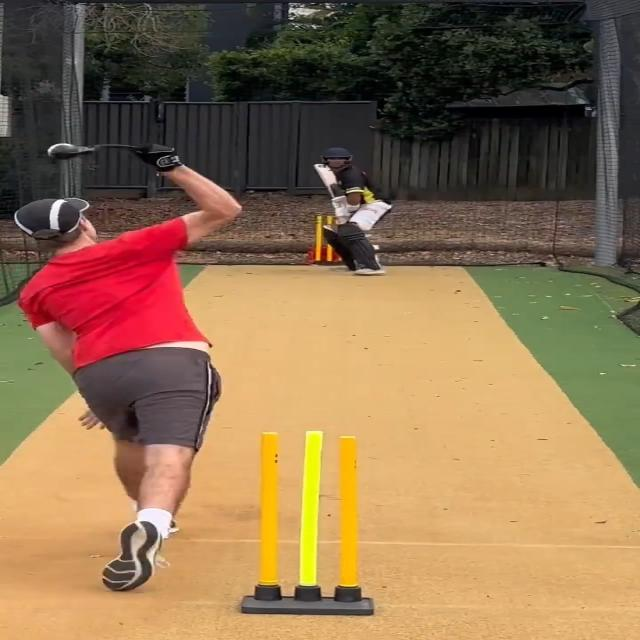stump: (244, 428, 376, 616)
